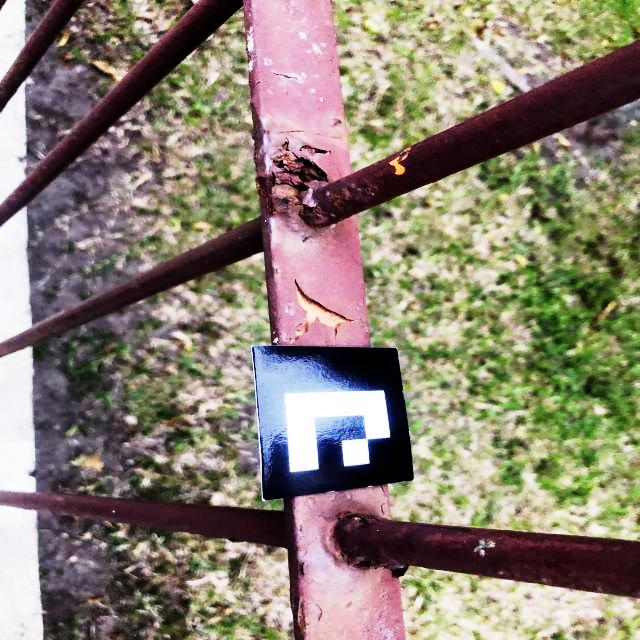Corrosion: (252, 119, 413, 243), (294, 510, 409, 581), (290, 282, 363, 346), (293, 596, 309, 639), (292, 518, 303, 536), (374, 502, 387, 516), (314, 133, 341, 139), (274, 73, 298, 79), (332, 117, 342, 126), (229, 538, 243, 543), (380, 485, 385, 493)
